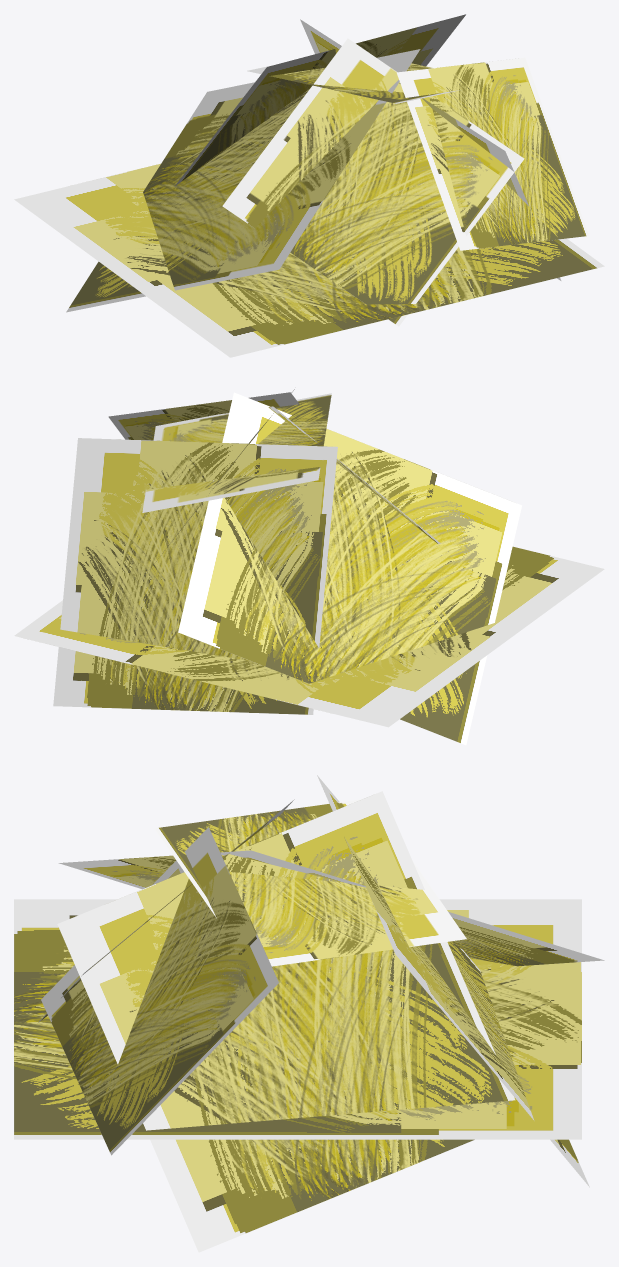
The model's file is SM_StrawPile.fbx.
3 views of the same model, one above another, from view 1: azimuth 30°, elevation 25°; view 2: azimuth 150°, elevation 25°; view 3: azimuth 270°, elevation 25° (orthographic). The views are drawn at different scales.
Parts seen in each view (by area): view 1: SM_StrawPile; view 2: SM_StrawPile; view 3: SM_StrawPile.
Part boxes in pixels (left/top/right/bottom): SM_StrawPile: left=14, top=14, right=604, bottom=357; SM_StrawPile: left=14, top=389, right=604, bottom=745; SM_StrawPile: left=14, top=775, right=604, bottom=1252.
Size of the model in its own units: 275 by 165 by 259.
